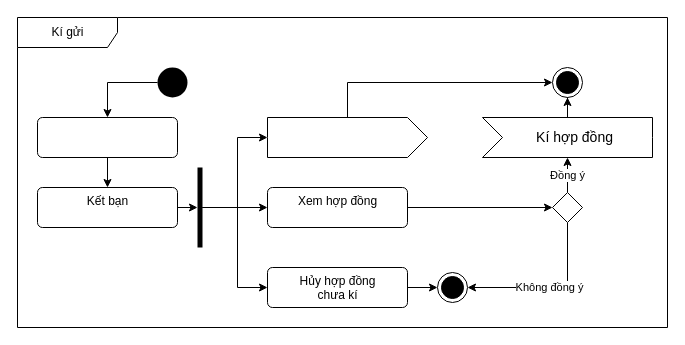
This 685x345 diagram has some shape labels left out. The box of each missing label's shape, as (x1, y1, x2, y2) in pixels:
Tạo hợp đồng: (266, 116, 428, 158)
Đăng nhập: (36, 116, 178, 158)
